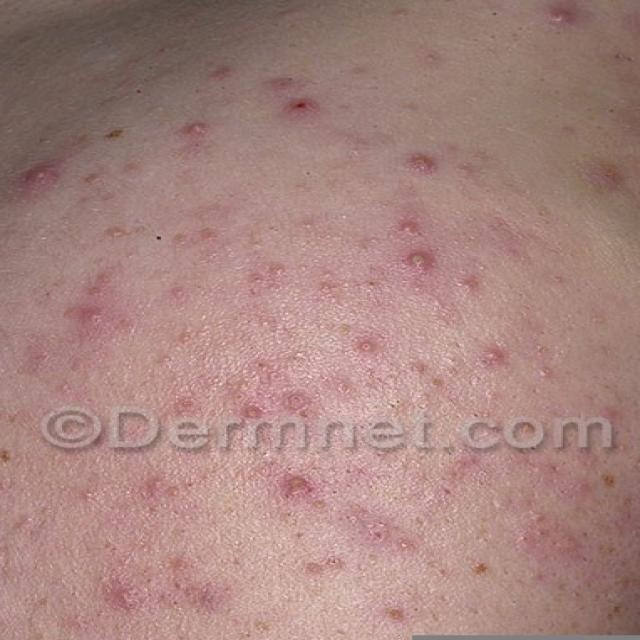Acne: (0, 68, 598, 625), (496, 0, 640, 56)
